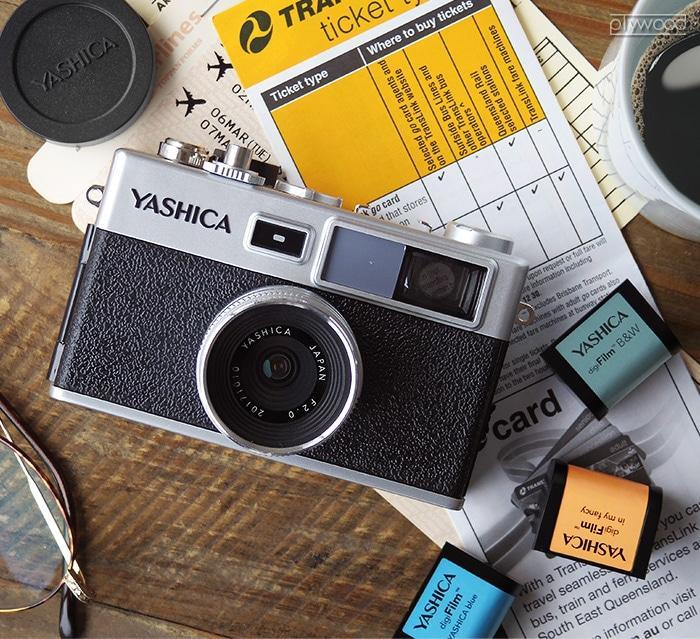degital-camera: (39, 132, 550, 517)
